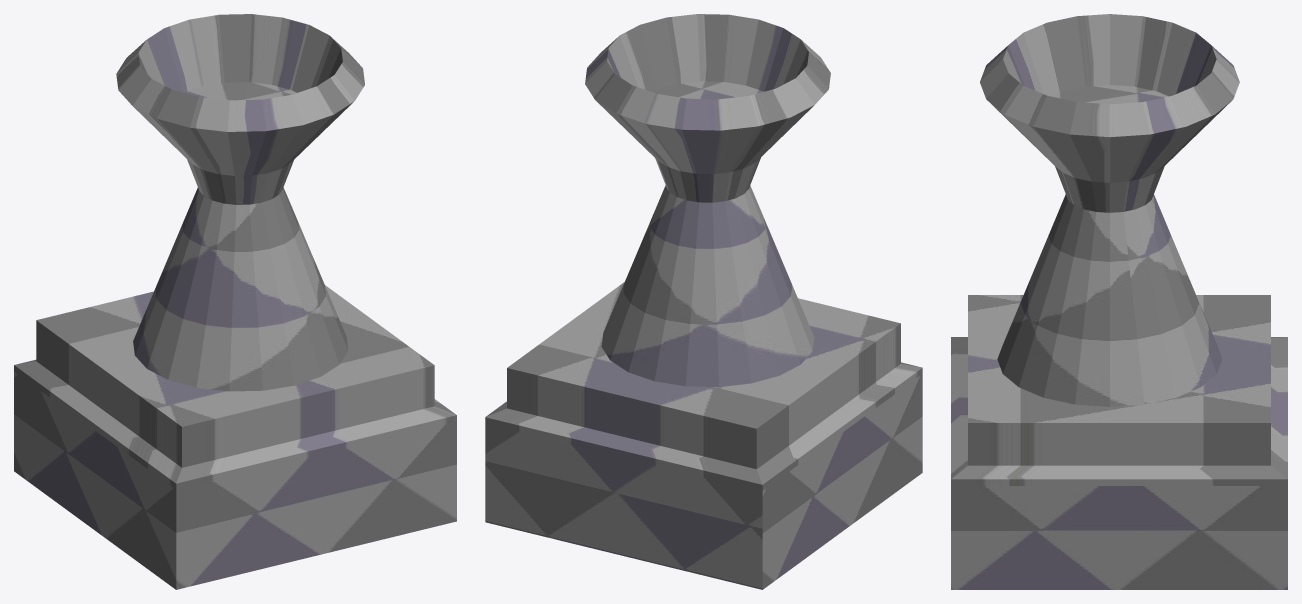
The model's file is Ornament.fbx.
The picture shows the model from 3 angles, left to right: view 1: azimuth 30°, elevation 25°; view 2: azimuth 150°, elevation 25°; view 3: azimuth 270°, elevation 25°; orthographic projection. The views are drawn at different scales.
Visible parts, largest first — view 1: pCylinder45; view 2: pCylinder45; view 3: pCylinder45.
Boxes of the visible parts, x1=… form: pCylinder45: x1=14, y1=14, x2=456, y2=589; pCylinder45: x1=485, y1=14, x2=922, y2=589; pCylinder45: x1=951, y1=14, x2=1287, y2=589.
Size of the model in its own units: 5.83 by 8.78 by 5.83.
